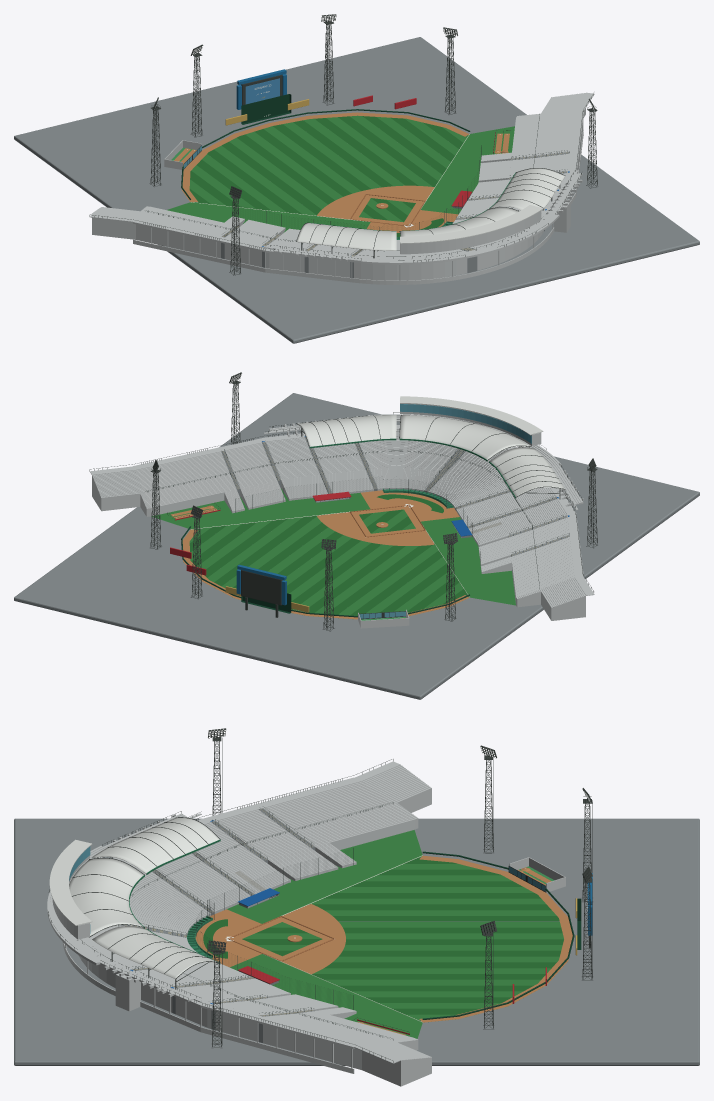
File: estadio-map-9a09860793a5.glb
3 renders of one model, top to bottom at view 1: azimuth 30°, elevation 25°; view 2: azimuth 150°, elevation 25°; view 3: azimuth 270°, elevation 25°, orthographic. The views are drawn at different scales.
Parts seen in each view (by area): view 1: phase3_dugout_escogido_shell, bullpen_licey_enclosure, bullpen_escogido_floor, phase2_backstop_grass_crescent, bullpen_escogido_rail, bullpen_escogido_lanes, roof_panel_left, roof_panel_right, outfield_wall_03_ends, press_box, press_box_canopy, main_grandstand_roof (+4 smaller); view 2: phase3_dugout_escogido_shell, bullpen_licey_enclosure, bullpen_escogido_floor, phase2_backstop_grass_crescent, bullpen_escogido_rail, bullpen_escogido_lanes, main_grandstand_roof, roof_panel_right, roof_panel_left, press_box_canopy, press_box_glass, outfield_wall_03_ends (+5 smaller); view 3: phase3_dugout_escogido_shell, bullpen_licey_enclosure, bullpen_escogido_floor, phase2_backstop_grass_crescent, bullpen_escogido_lanes, bullpen_escogido_rail, main_grandstand_roof, roof_panel_left, roof_panel_right, press_box_canopy, phase3_aisle_handrails, outfield_wall_03_ends (+1 smaller).
Boxes of the visible parts, x1,y1,x2,y2 form: phase3_dugout_escogido_shell: (14,37,699,343); bullpen_licey_enclosure: (90,92,594,284); bullpen_escogido_floor: (167,115,514,232); phase2_backstop_grass_crescent: (189,116,468,236); bullpen_escogido_rail: (89,14,597,274); bullpen_escogido_lanes: (174,112,509,232); roof_panel_left: (296,223,396,250); roof_panel_right: (489,168,565,210); outfield_wall_03_ends: (181,94,470,199); press_box: (400,210,541,254); press_box_canopy: (400,205,543,243); main_grandstand_roof: (400,207,518,236); phase3_dugout_escogido_shell: (14,393,699,699); bullpen_licey_enclosure: (89,414,594,628); bullpen_escogido_floor: (151,488,515,618); phase2_backstop_grass_crescent: (189,494,467,615); bullpen_escogido_rail: (89,372,597,630); bullpen_escogido_lanes: (171,490,469,619); main_grandstand_roof: (400,415,530,460); roof_panel_right: (296,415,396,446); roof_panel_left: (489,447,564,497); press_box_canopy: (400,396,543,434); press_box_glass: (400,404,531,443); outfield_wall_03_ends: (181,526,469,617); phase3_dugout_escogido_shell: (14,808,699,1065); bullpen_licey_enclosure: (47,761,565,1086); bullpen_escogido_floor: (227,830,563,1038); phase2_backstop_grass_crescent: (203,858,563,1022); bullpen_escogido_lanes: (195,855,572,1035); bullpen_escogido_rail: (48,728,592,1062); main_grandstand_roof: (69,858,143,937); roof_panel_left: (92,818,219,873); roof_panel_right: (92,926,220,979); press_box_canopy: (49,839,92,925); phase3_aisle_handrails: (118,802,393,1040); outfield_wall_03_ends: (422,851,581,1019).
Bounding box in the file's own units: 261 × 45.97 × 250.
